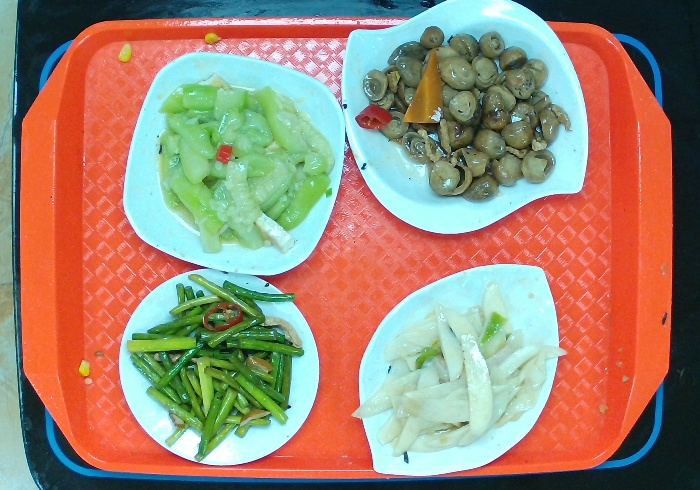RJxy-Da_Du_Pan: (354, 259, 561, 476)
RJxy-Shuang_Jiao_Pan: (338, 1, 590, 237)
RJxy-Si_Fang_Wan: (120, 50, 345, 281)
RJxy-Xiao_Yuan_Die: (113, 267, 323, 470)
